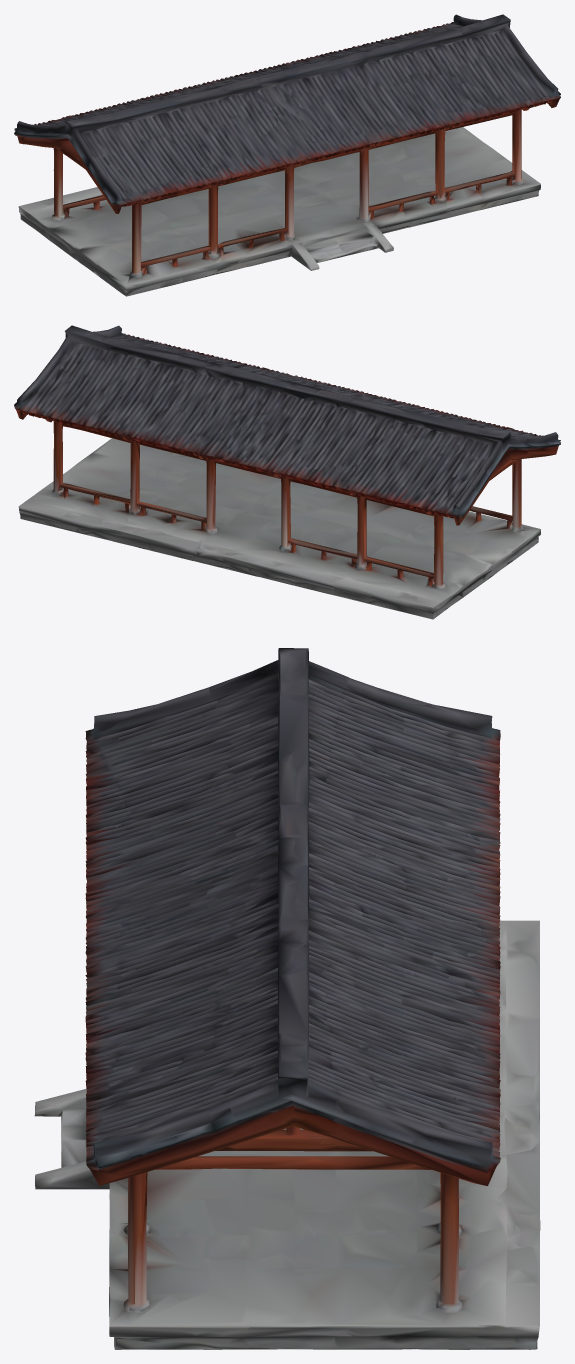
File: station_廊.glb
The picture shows the model from 3 angles, top to bottom: view 1: azimuth 30°, elevation 25°; view 2: azimuth 150°, elevation 25°; view 3: azimuth 270°, elevation 25°; orthographic projection. The views are drawn at different scales.
Parts seen in each view (by area): view 1: tripo_node_bc75bcd3-1a22-49fd-a783-679e8954b441; view 2: tripo_node_bc75bcd3-1a22-49fd-a783-679e8954b441; view 3: tripo_node_bc75bcd3-1a22-49fd-a783-679e8954b441.
Boxes of the visible parts, x1,y1,x2,y2 form: tripo_node_bc75bcd3-1a22-49fd-a783-679e8954b441: [14, 14, 560, 296]; tripo_node_bc75bcd3-1a22-49fd-a783-679e8954b441: [14, 325, 560, 619]; tripo_node_bc75bcd3-1a22-49fd-a783-679e8954b441: [34, 648, 540, 1349].
Bounding box in the file's own units: 1.6 × 0.4879 × 0.7779.
